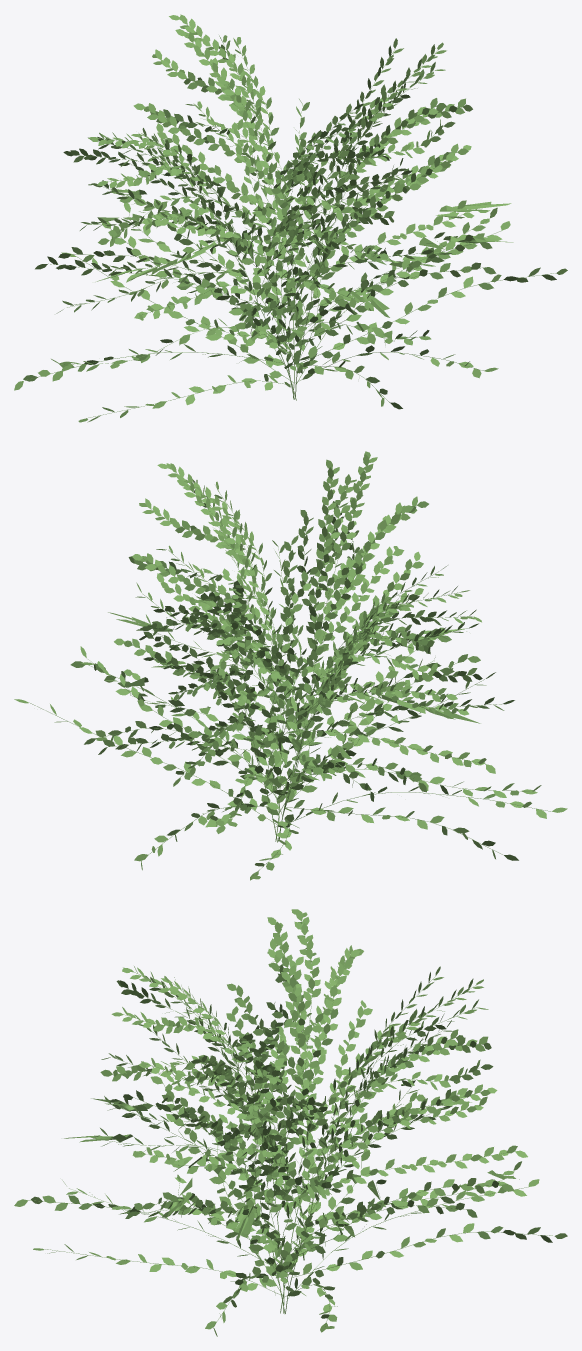
Rendered from Herbs(Bushes).fbx.
3 renders of one model, top to bottom at view 1: azimuth 30°, elevation 25°; view 2: azimuth 150°, elevation 25°; view 3: azimuth 270°, elevation 25°, orthographic.
Parts seen in each view (by area): view 1: leaves.004; view 2: leaves.004; view 3: leaves.004.
Boxes of the visible parts, <box> form: leaves.004: <box>14,14,567,422</box>; leaves.004: <box>14,451,567,880</box>; leaves.004: <box>14,909,567,1336</box>.
Bounding box in the file's own units: 665 × 428 × 628.
